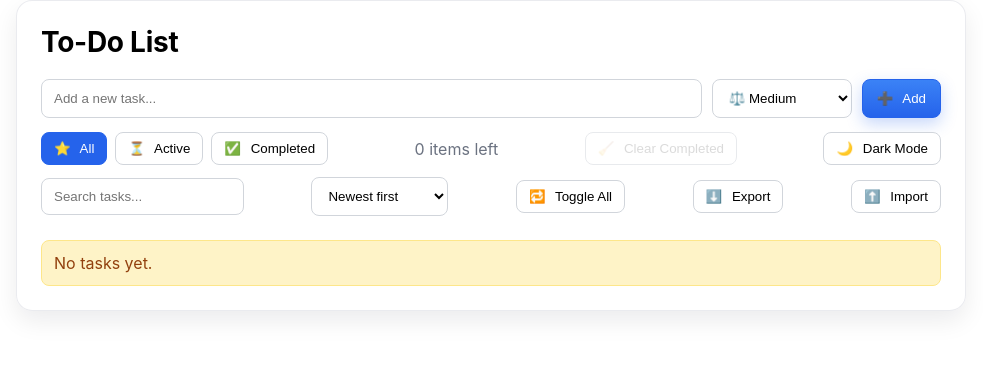
Test: adds a task with Enter and button
In the field with placeholder "Add a new task...": [371, 98] box [41,79,702,118], type "Task A"
Then press Enter
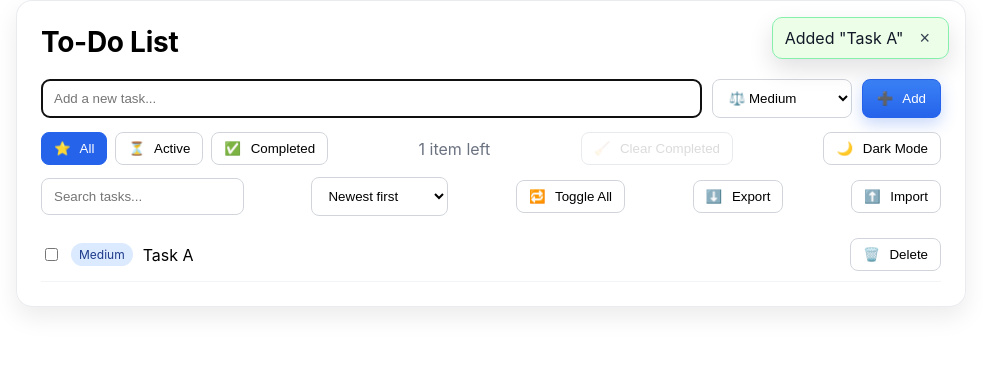
expect the text "Task A" is shown: met, box [143,244,194,264]
In the field with placeholder "Add a new task...": [371, 98] box [41,79,702,118], type "Task B"
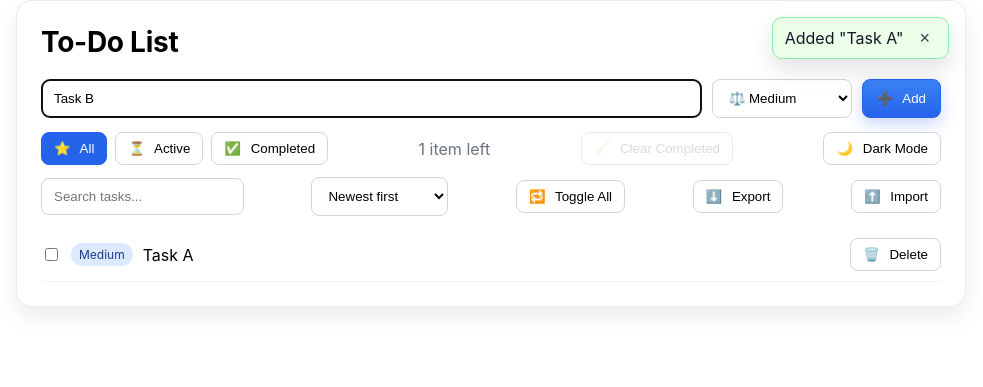
Click the button "➕ Add": [901, 98] box [862,79,941,118]
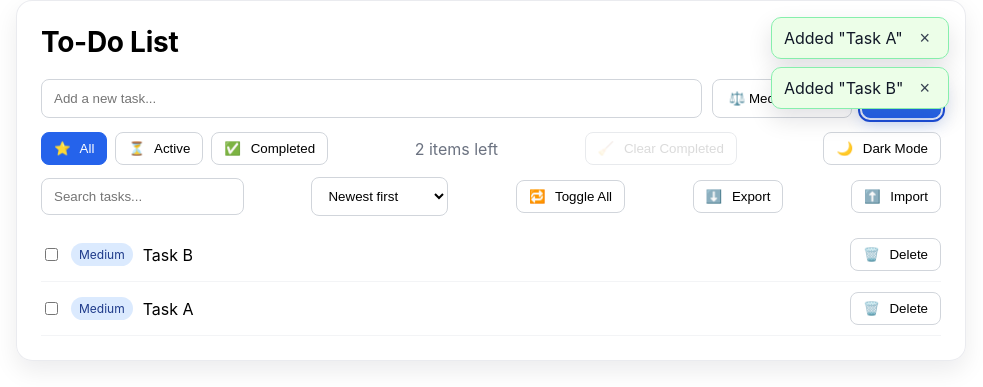
expect the text "Task B" is shown: met, box [143,244,193,264]
